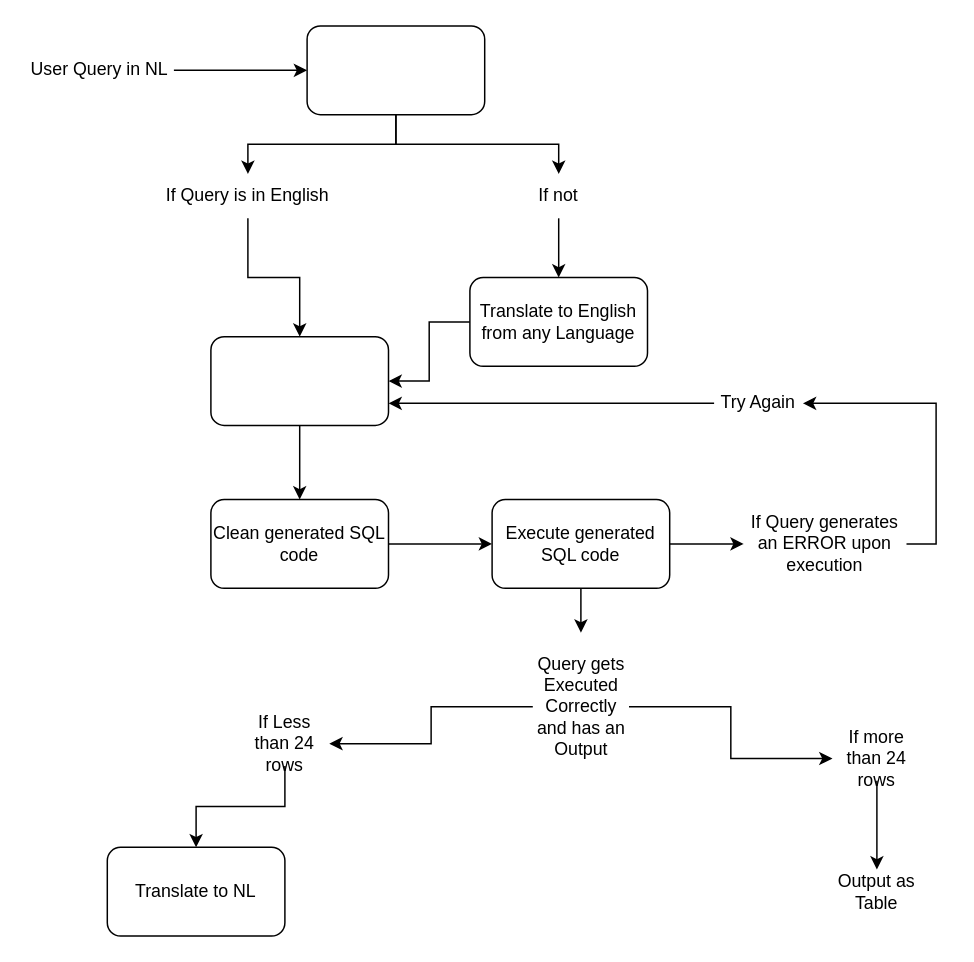
This 974x962 diagram has some shape labels left out. Each missing label, with the box of its shape:
Generate SQL code: (209, 335, 388, 426)
SELECT all tables in SCHEMA from information_schema: (306, 24, 485, 115)
